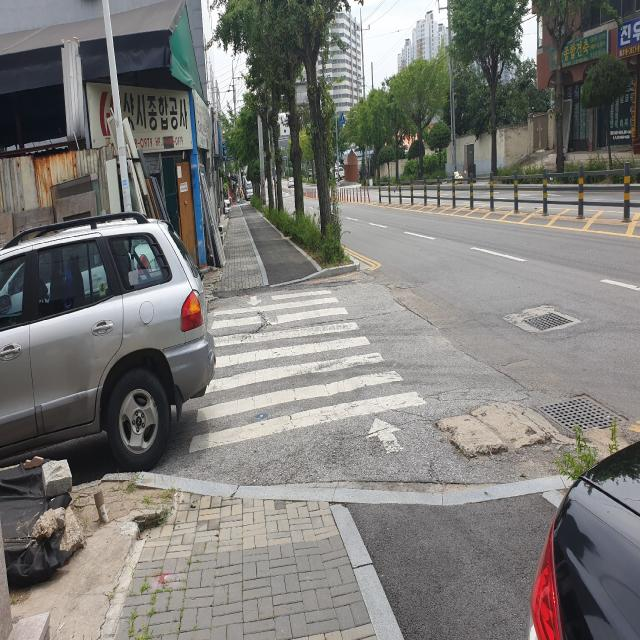횡단보도: (189, 289, 427, 453)
